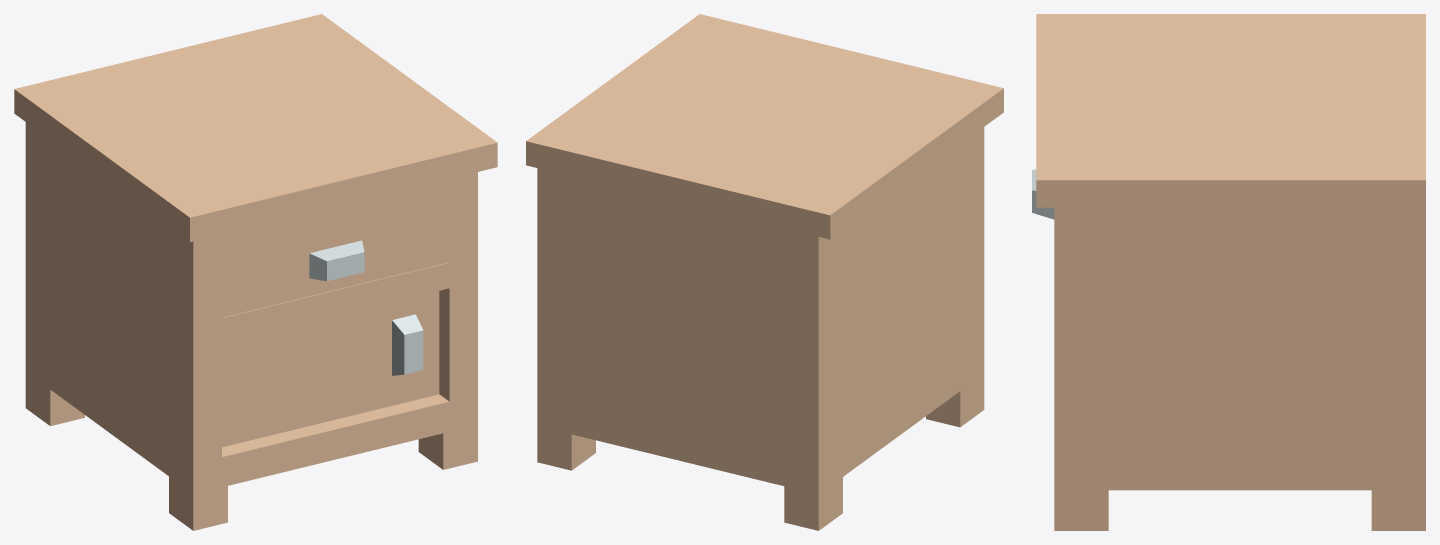
File: kn-cabinet-bed-drawer.glb
The picture shows the model from 3 angles, left to right: view 1: azimuth 30°, elevation 25°; view 2: azimuth 150°, elevation 25°; view 3: azimuth 270°, elevation 25°; orthographic projection. The views are drawn at different scales.
Parts seen in each view (by area): view 1: cabinetBedDrawer(Clone), door; view 2: cabinetBedDrawer(Clone); view 3: cabinetBedDrawer(Clone).
Part boxes in pixels (x1,y1,x2,y2): cabinetBedDrawer(Clone): (14,14,497,530); door: (309,240,423,375); cabinetBedDrawer(Clone): (526,14,1003,530); cabinetBedDrawer(Clone): (1036,14,1425,530).
Size of the model in its own units: 1 by 1 by 1.
